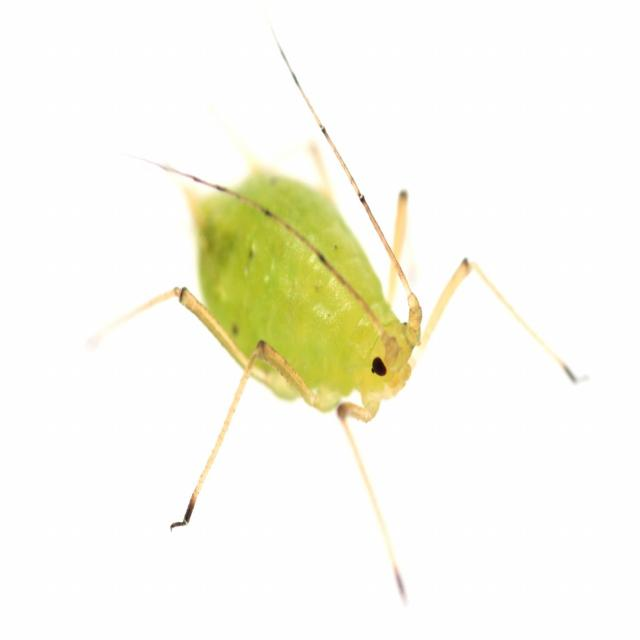Aphid-Grown-: (120, 92, 533, 543)
